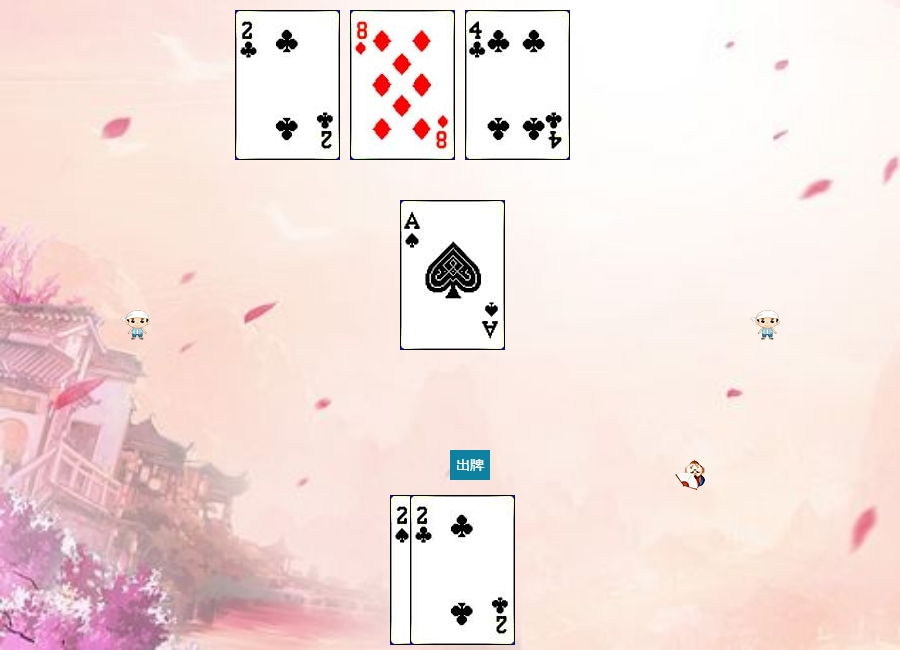14~4: (400, 200, 505, 350)
15~2: (235, 10, 340, 160), (410, 495, 515, 645)
15~4: (390, 495, 495, 645)
4~2: (465, 10, 570, 160)
8~1: (350, 10, 455, 160)
